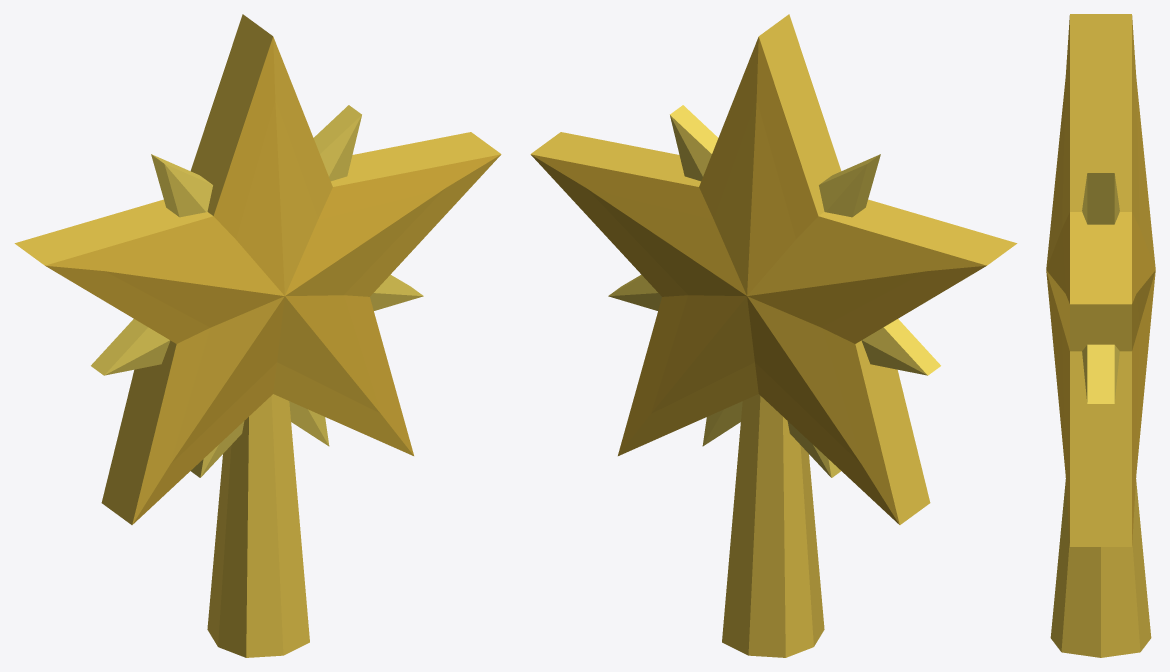
Rendered from Stars3.fbx.
3 views of the same model, side by side, from view 1: azimuth 30°, elevation 25°; view 2: azimuth 150°, elevation 25°; view 3: azimuth 270°, elevation 25° (orthographic).
Parts seen in each view (by area): view 1: Star3; view 2: Star3; view 3: Star3.
Part boxes in pixels (x1,y1,x2,y2): Star3: (14, 14, 501, 657); Star3: (530, 14, 1017, 657); Star3: (1046, 14, 1155, 657).
Bounding box in the file's own units: 83.77 × 109 × 17.09.
